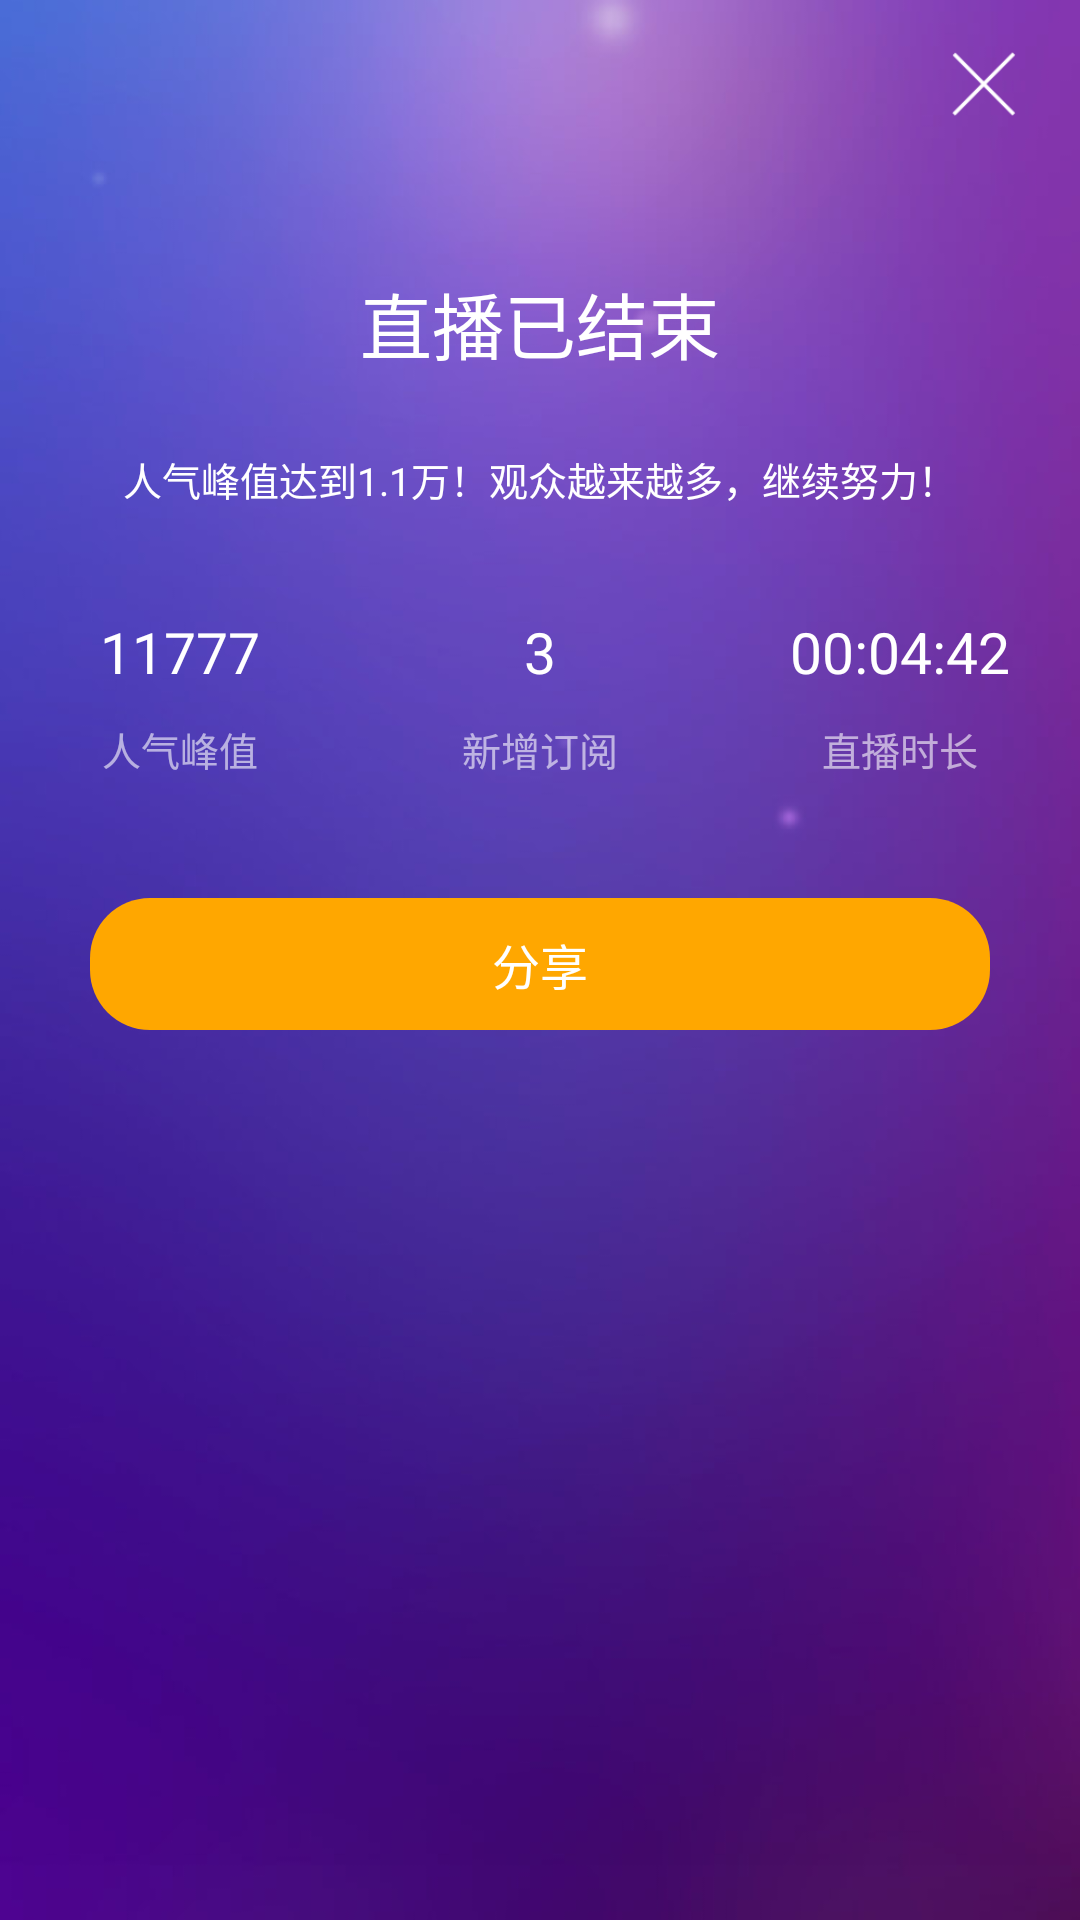

Named icons in this screenshot (1080 x 1920) and their bounding boxes, (x1, y1, x2, y2):
close: (952, 52, 1015, 116)
